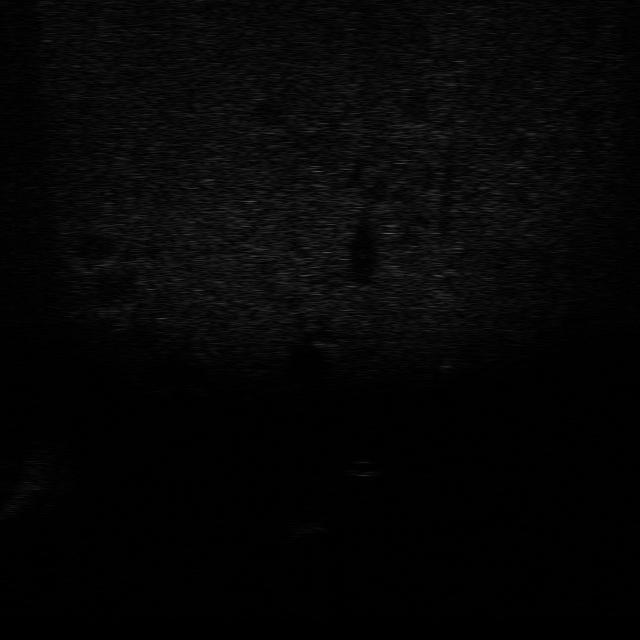ball: (338, 456, 384, 479)
square cage: (275, 516, 333, 546)
